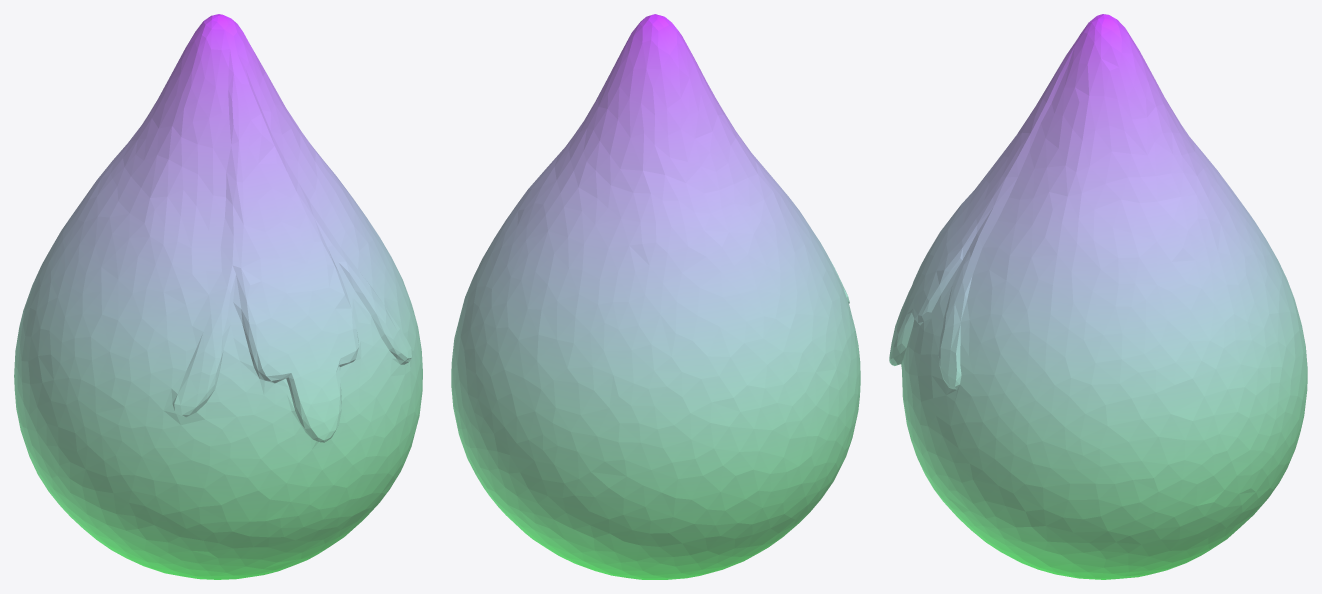
Rendered from 141_cyb_laser_gradient_fish_scales_2898_2026_10_03_9194fd.glb.
3 views of the same model, side by side, from view 1: azimuth 30°, elevation 25°; view 2: azimuth 150°, elevation 25°; view 3: azimuth 270°, elevation 25° (orthographic).
Parts seen in each view (by area): view 1: geometry_0; view 2: geometry_0; view 3: geometry_0.
Boxes of the visible parts, <box> form: geometry_0: <box>14,14,422,579</box>; geometry_0: <box>451,14,860,579</box>; geometry_0: <box>889,14,1307,579</box>.
Bounding box in the file's own units: 0.647 × 0.9472 × 0.6617.
